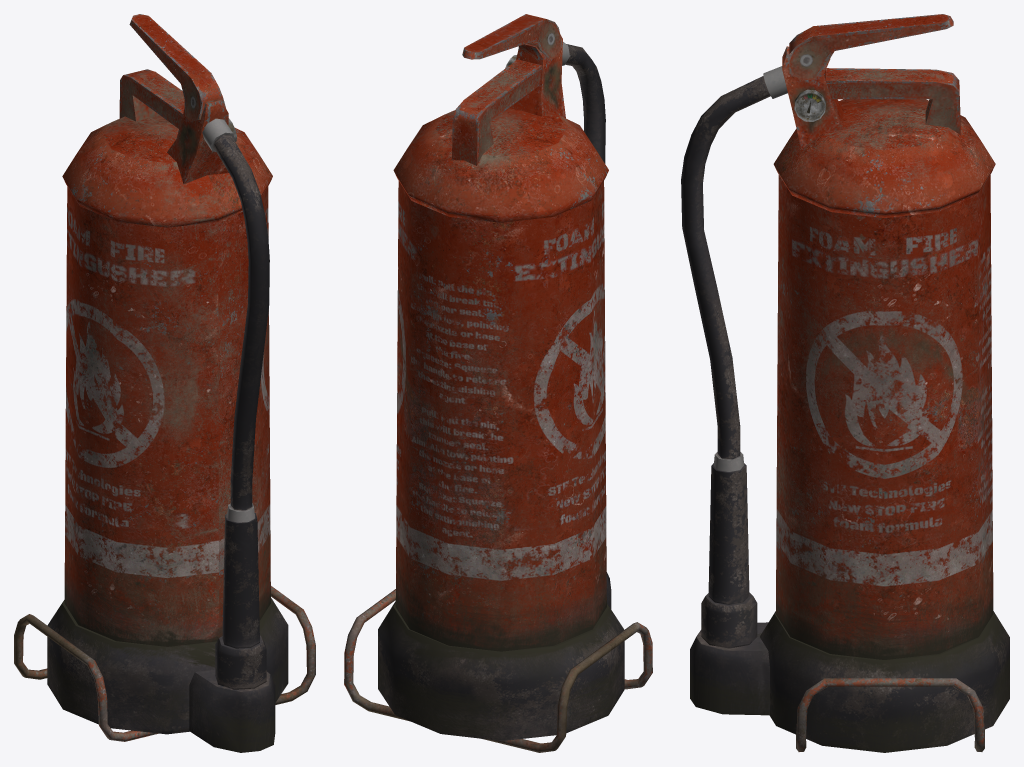
File: fire-extingusher.glb
The picture shows the model from 3 angles, left to right: view 1: azimuth 30°, elevation 25°; view 2: azimuth 150°, elevation 25°; view 3: azimuth 270°, elevation 25°; orthographic projection. The views are drawn at different scales.
Parts seen in each view (by area): view 1: Object_2; view 2: Object_2; view 3: Object_2.
Boxes of the visible parts, x1,y1,x2,y2 form: Object_2: (14, 14, 315, 752); Object_2: (344, 14, 652, 752); Object_2: (681, 14, 1009, 752).
Bounding box in the file's own units: 16.43 × 47.53 × 20.55.
Materials: 1 (1 with a texture image).
